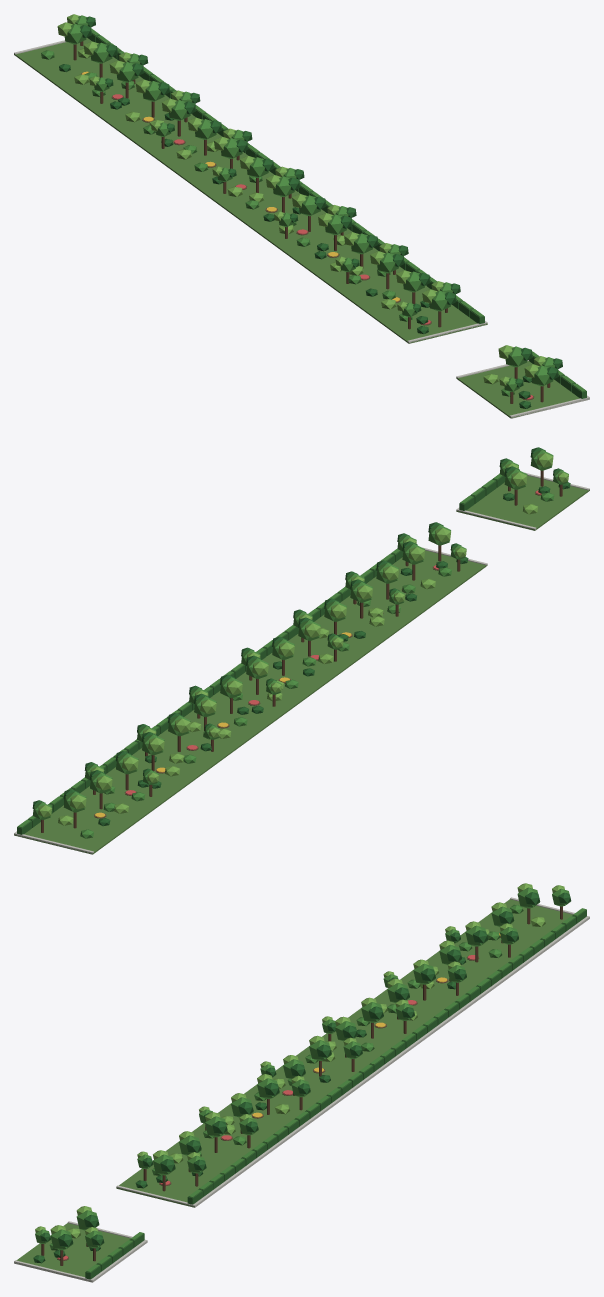
The model's file is green_belt.glb.
The picture shows the model from 3 angles, top to bottom: view 1: azimuth 30°, elevation 25°; view 2: azimuth 150°, elevation 25°; view 3: azimuth 330°, elevation 25°; orthographic projection.
Parts seen in each view (by area): view 1: GreenBelt; view 2: GreenBelt; view 3: GreenBelt.
Part boxes in pixels (x1=…): GreenBelt: x1=14, y1=14, x2=589, y2=418; GreenBelt: x1=14, y1=447, x2=589, y2=854; GreenBelt: x1=14, y1=883, x2=589, y2=1282.
Size of the model in its own units: 9.6 by 4.45 by 105.
